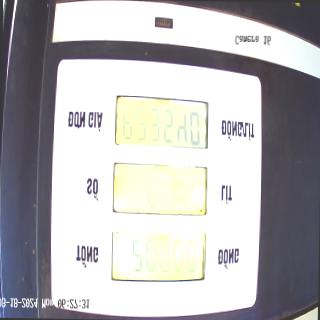screen: (110, 90, 210, 290)
